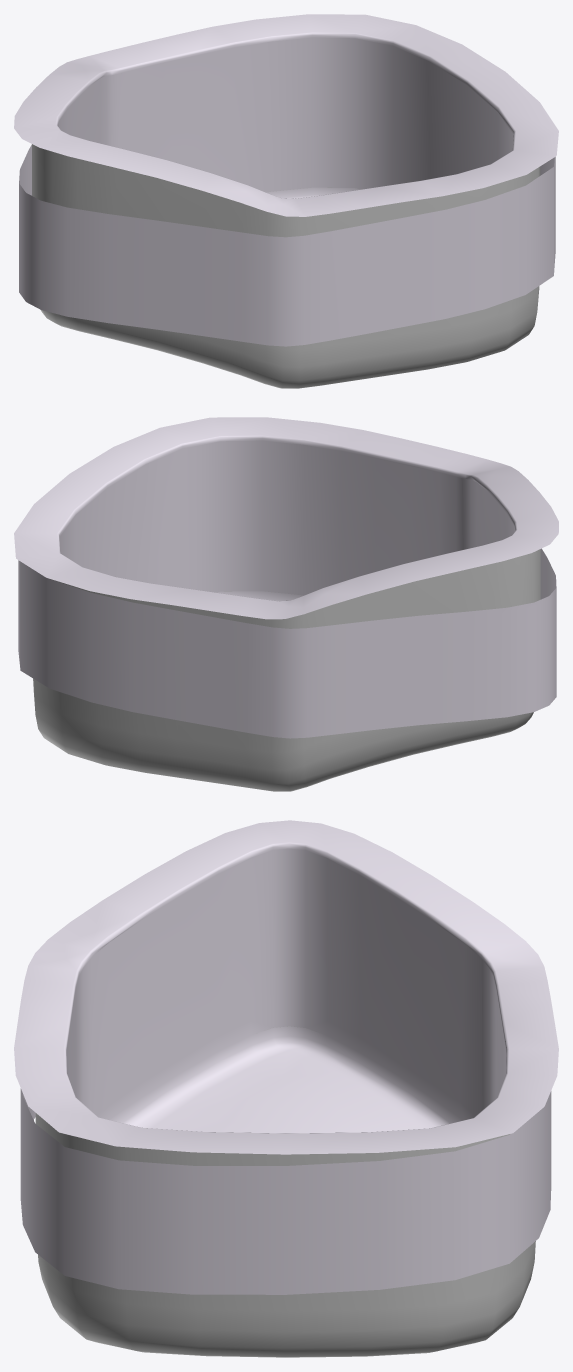
The model's file is dpad_right.obj.
3 views of the same model, one above another, from view 1: azimuth 30°, elevation 25°; view 2: azimuth 150°, elevation 25°; view 3: azimuth 270°, elevation 25° (orthographic). The views are drawn at different scales.
Parts seen in each view (by area): view 1: dpad_right; view 2: dpad_right; view 3: dpad_right.
Part boxes in pixels (x1,y1,x2,y2): dpad_right: (14, 14, 558, 388); dpad_right: (14, 417, 558, 791); dpad_right: (14, 820, 558, 1357).
Bounding box in the file's own units: 0.153 × 0.0734 × 0.1272.
